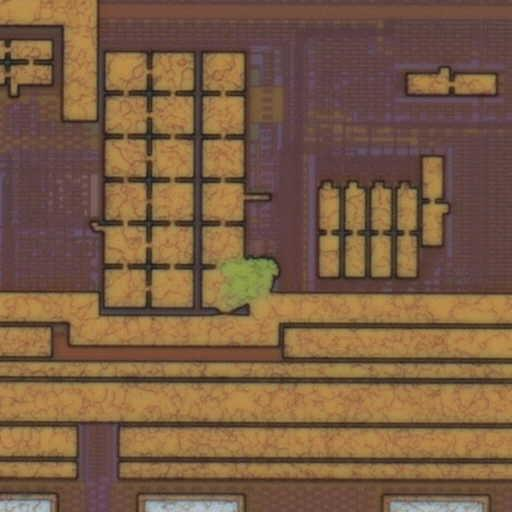BLOCK ETCH: (204, 244, 284, 319)
